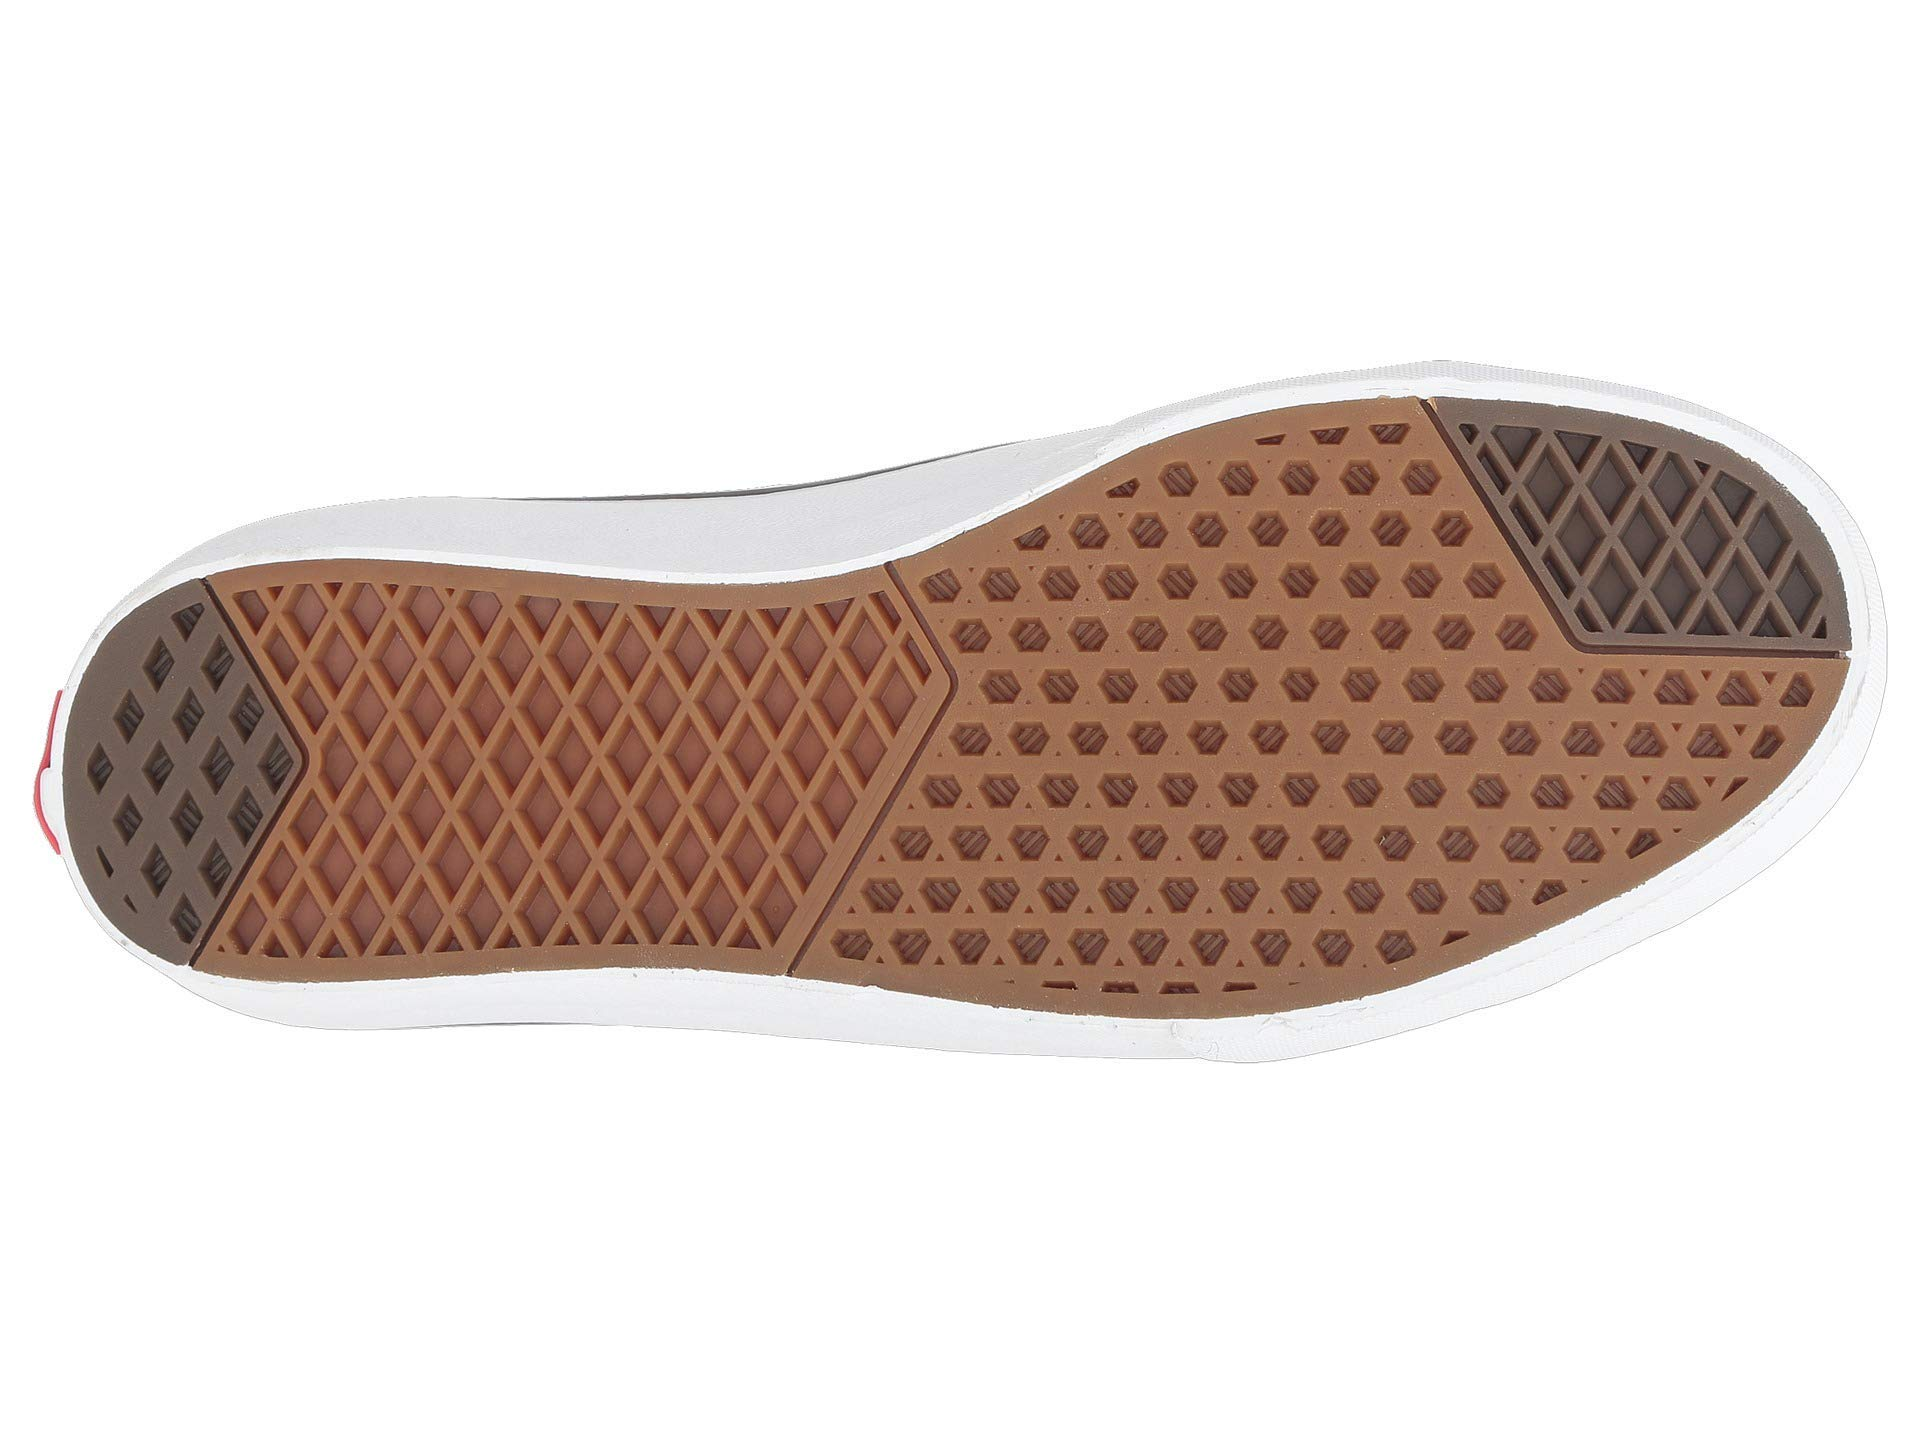line: (965, 546, 1473, 954)
polygon: (965, 546, 1473, 954)
quad: (393, 635, 694, 920), (1516, 413, 1761, 675)
